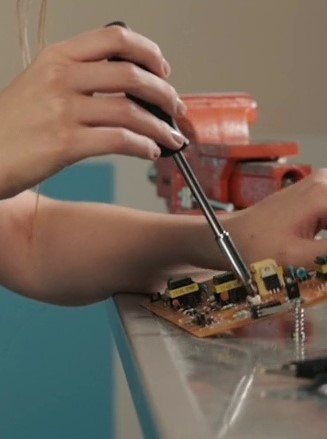screwdriver: (98, 18, 257, 293)
